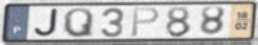3: (99, 6, 125, 38)
8: (164, 5, 194, 38), (198, 5, 227, 38)
J: (32, 8, 59, 39)
P: (130, 6, 161, 38)
Q: (62, 7, 95, 39)
